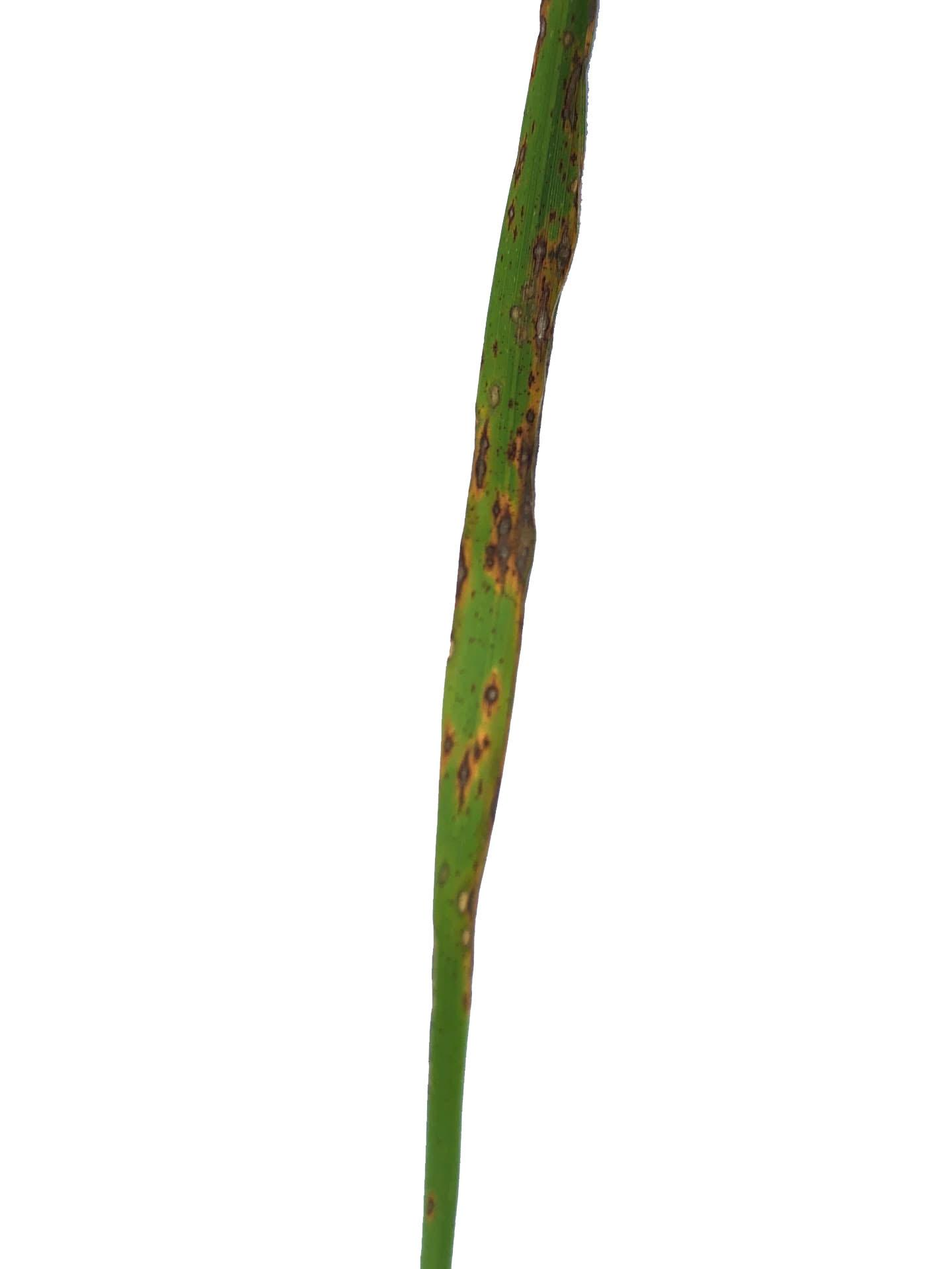Rice blast: (524, 204, 577, 413), (481, 419, 537, 609), (444, 722, 503, 820), (557, 43, 589, 153), (457, 875, 478, 987), (456, 533, 474, 622), (480, 667, 505, 710), (534, 11, 550, 77), (513, 142, 527, 189), (483, 385, 500, 410)
